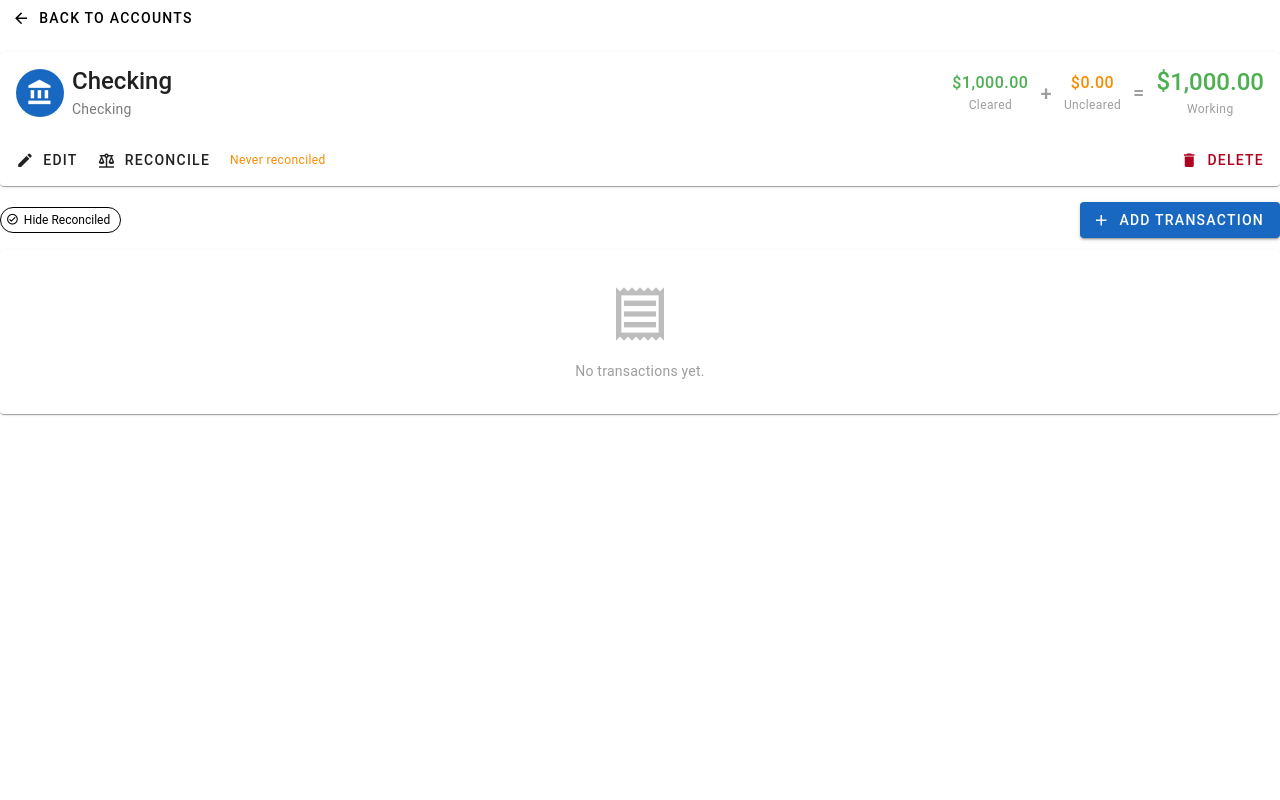
Test: AccountDetailView › can navigate back from Step 2 to Step 1
# Open reconcile dialog
What coordinates should you click on to do the following:
click the button "Reconcile"
I would click on:
 (154, 160)
Its box is [90,142,218,178].
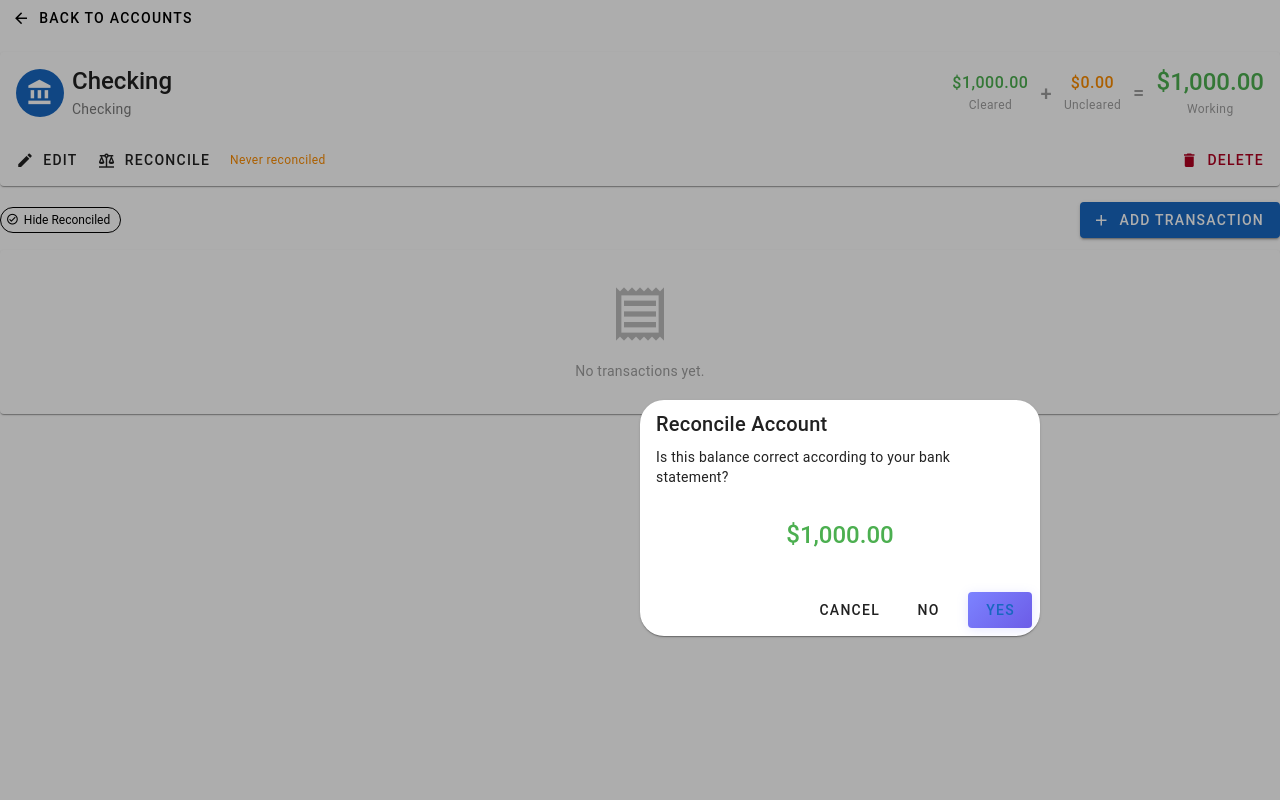
Now the button "No" is shown
What coordinates should you click on to do the following:
click the button "No"
I would click on:
 (928, 610)
Its box is [896,592,960,628].
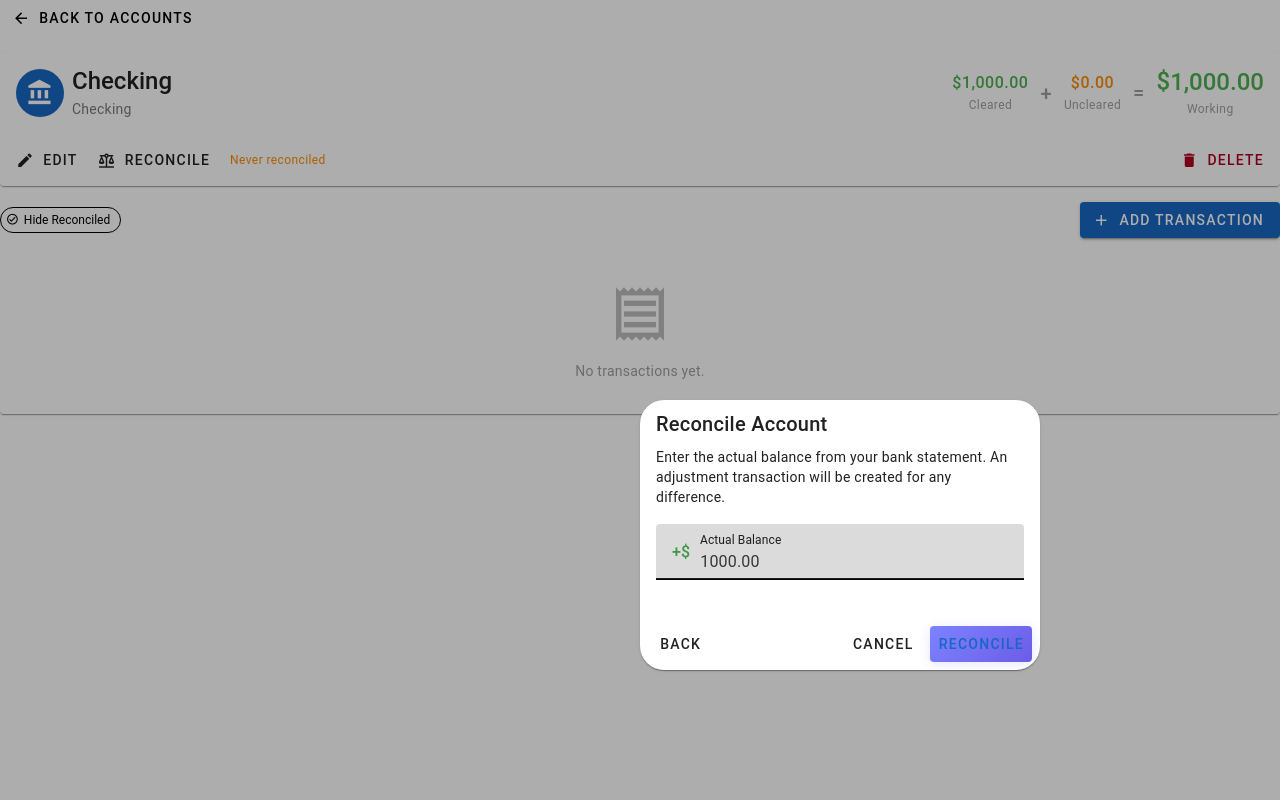
Now the button "Back" is shown
Now the text "actual balance" is shown, box [656,449,1007,505]
# Click Back to return to Step 1
What coordinates should you click on to do the following:
click the button "Back"
I would click on:
 (680, 644)
Its box is [648,626,712,662].
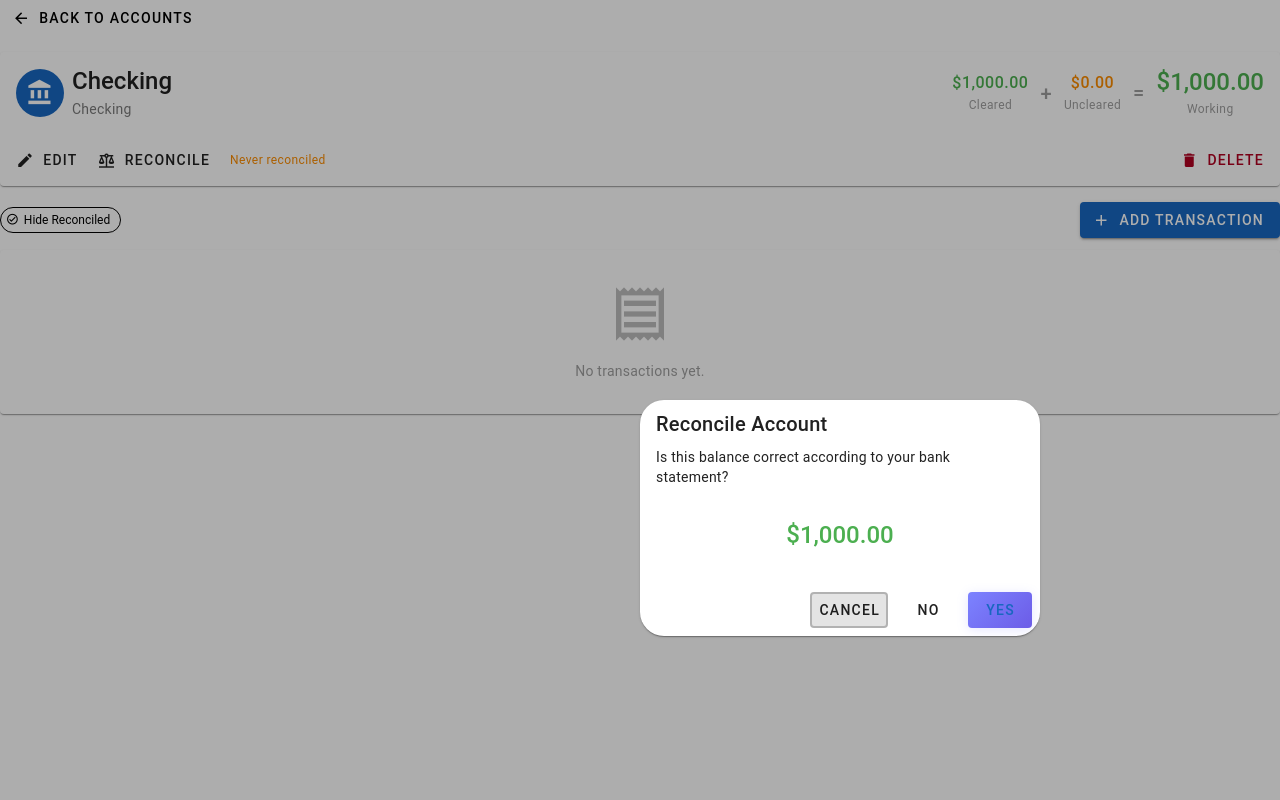
Expected: the text "No" is shown, [916,602,940,618]
Now the text "Is this balance correct" is shown, box [656,449,950,485]
Now the text "Yes" is shown, box [985,602,1015,618]
